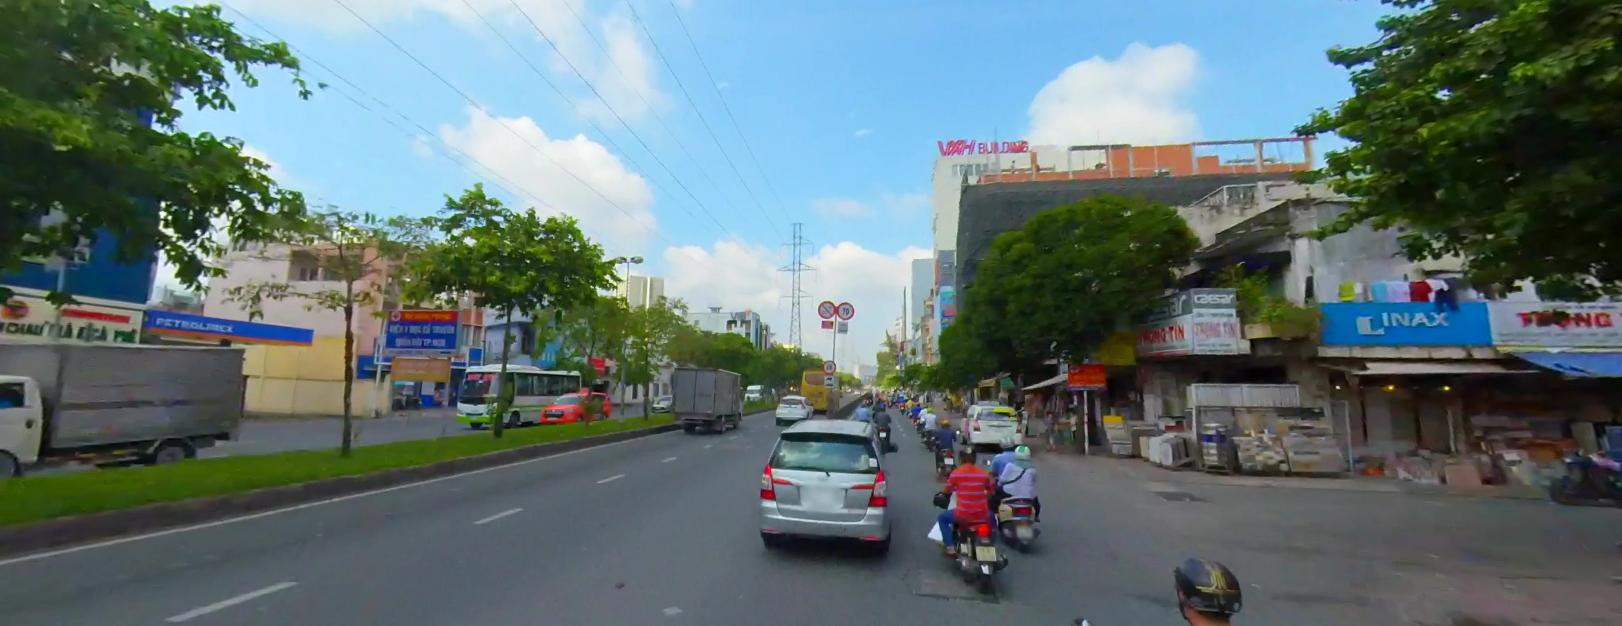Cam con lai: (817, 299, 835, 317)
Gioi han toc do: (837, 300, 853, 317), (823, 359, 836, 372)
